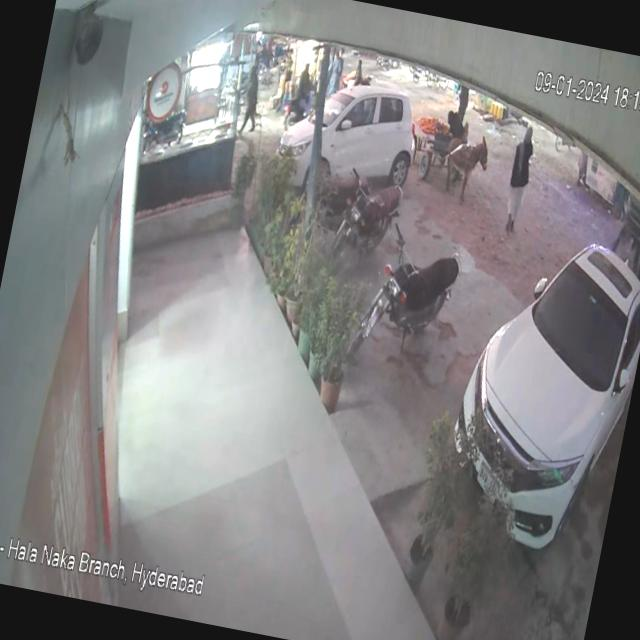Car: (431, 181, 640, 573), (254, 54, 431, 198)
Motorcycle: (344, 208, 478, 382), (333, 166, 412, 264)
